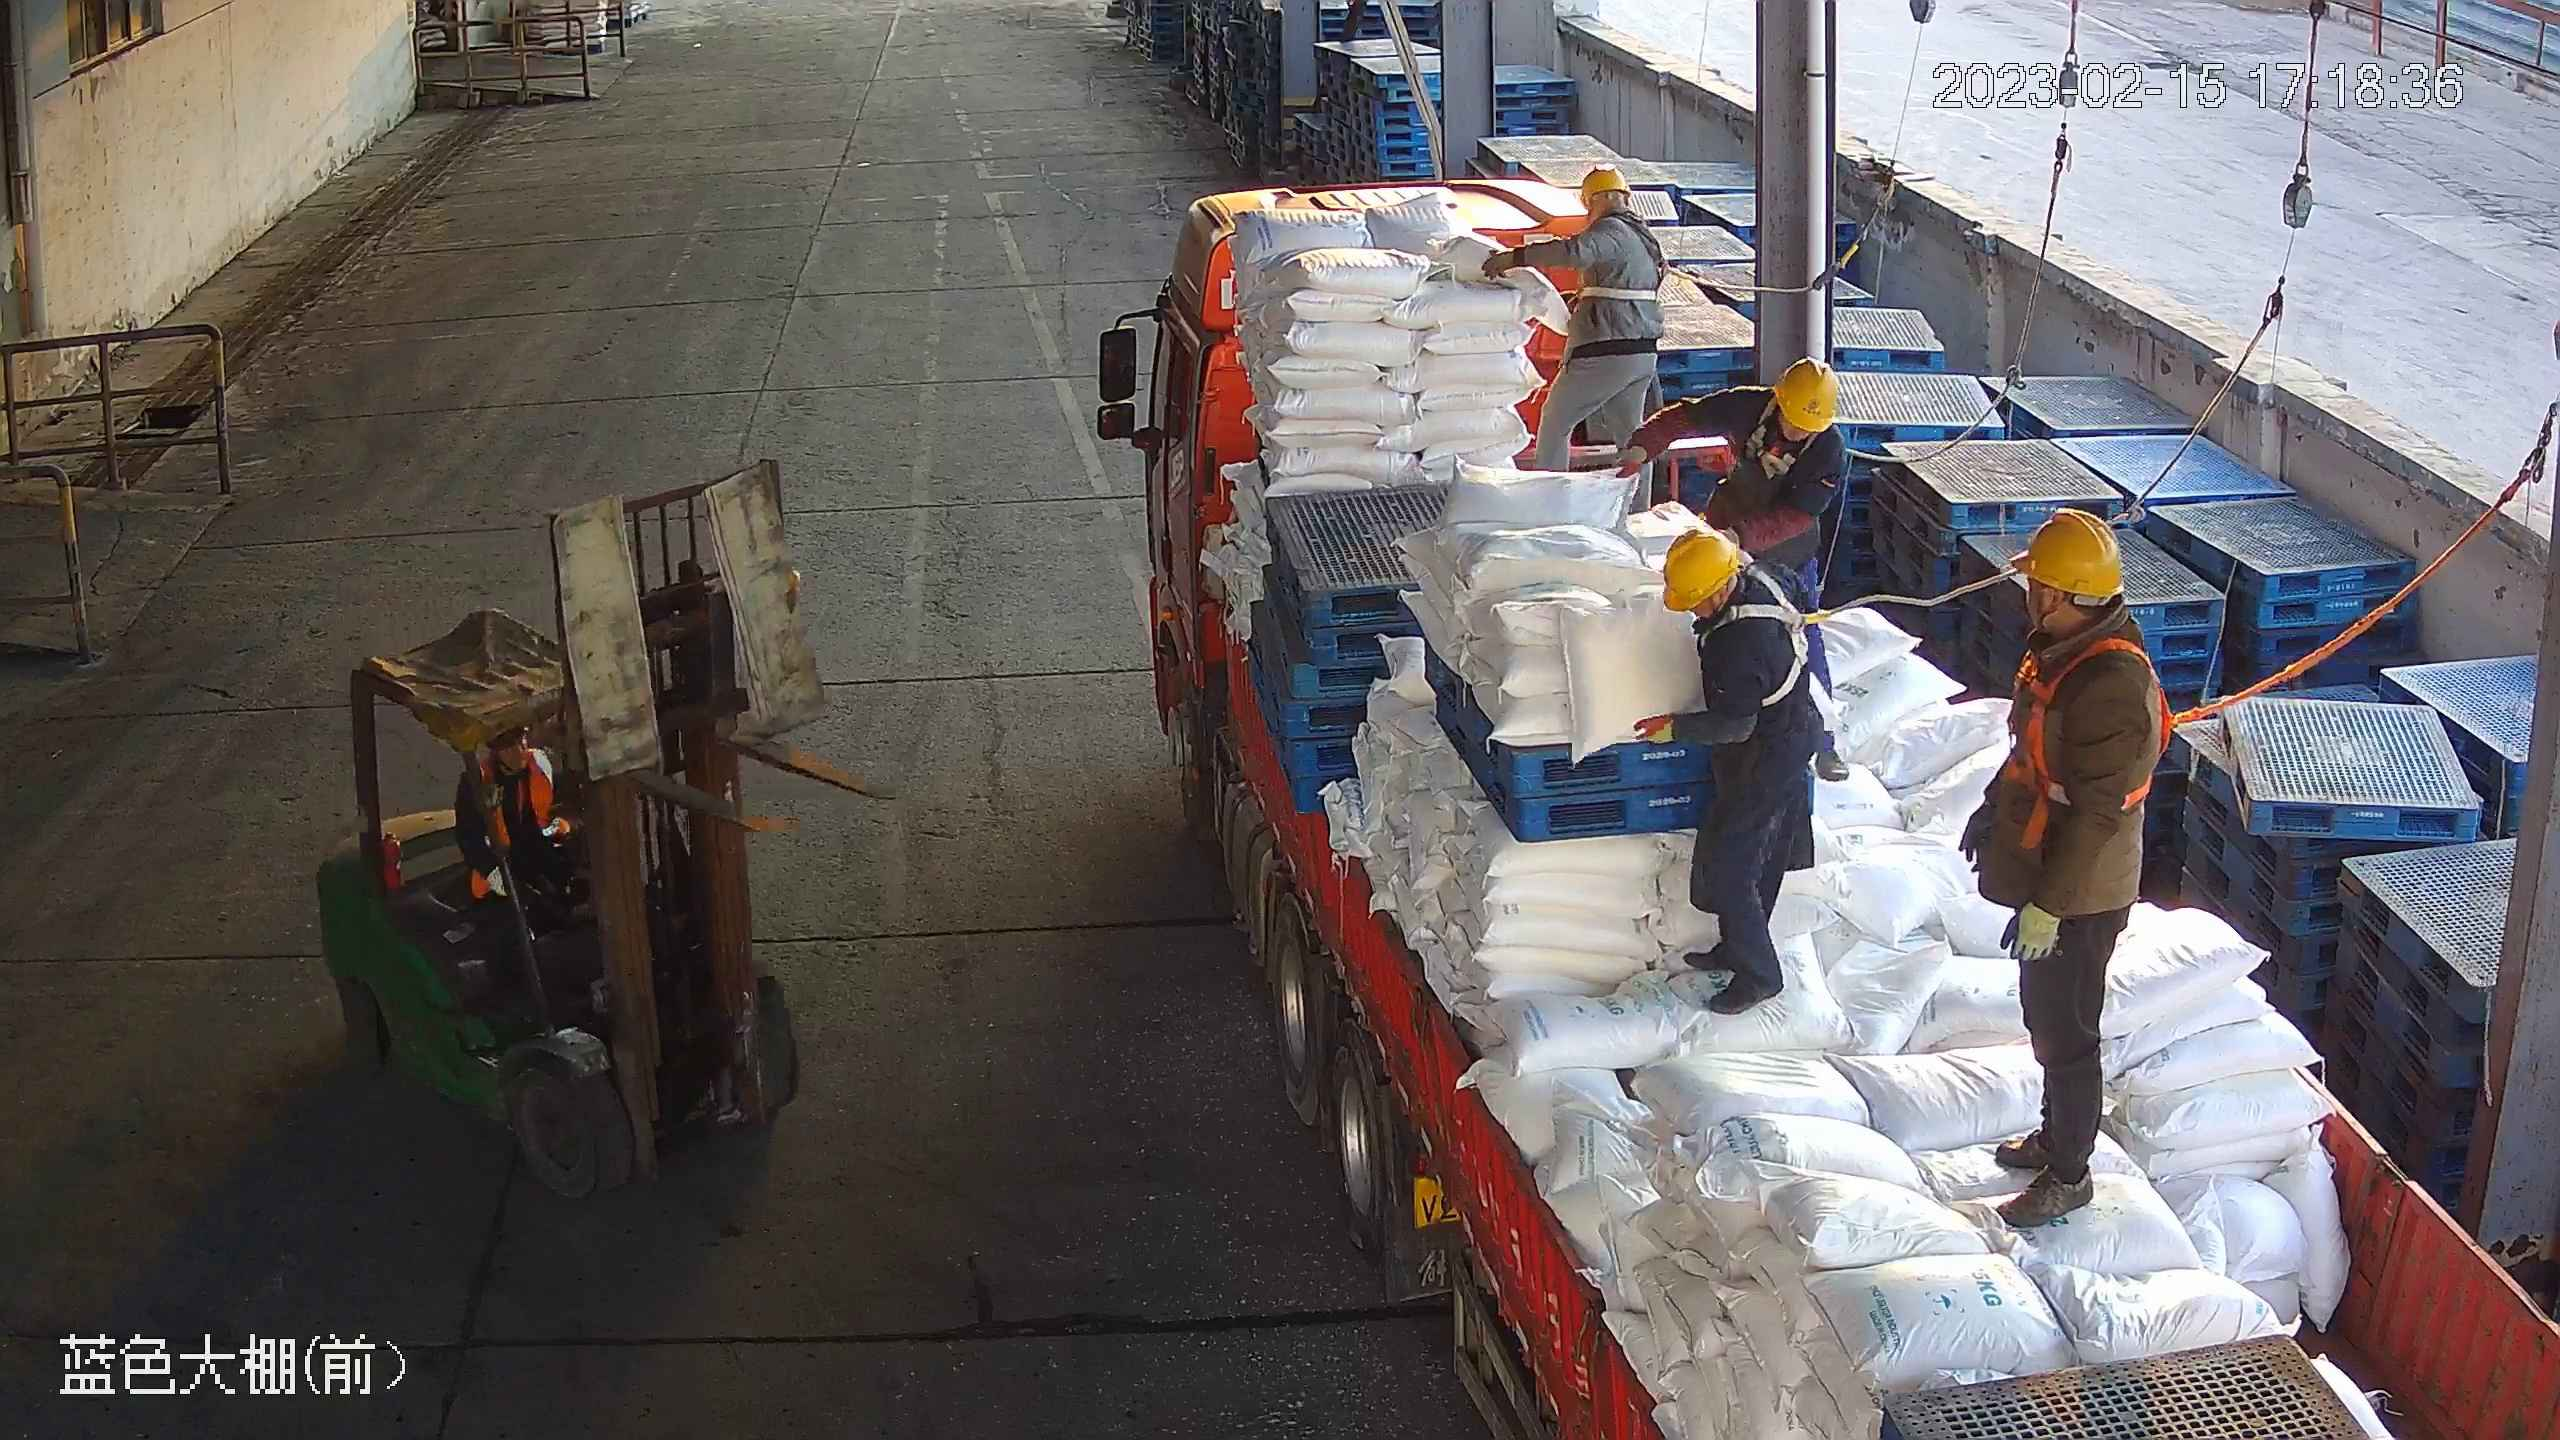head: (2004, 501, 2177, 726), (1661, 528, 1809, 657), (1726, 354, 1853, 465), (1555, 167, 1663, 246)
helmet: (2006, 502, 2131, 601), (1662, 529, 1744, 614), (1768, 355, 1841, 434), (1573, 169, 1637, 205)
people: (1955, 502, 2171, 1229), (1615, 355, 1859, 785), (1661, 528, 1824, 1021), (1479, 167, 1669, 478)
truck: (1136, 170, 2560, 1440)
